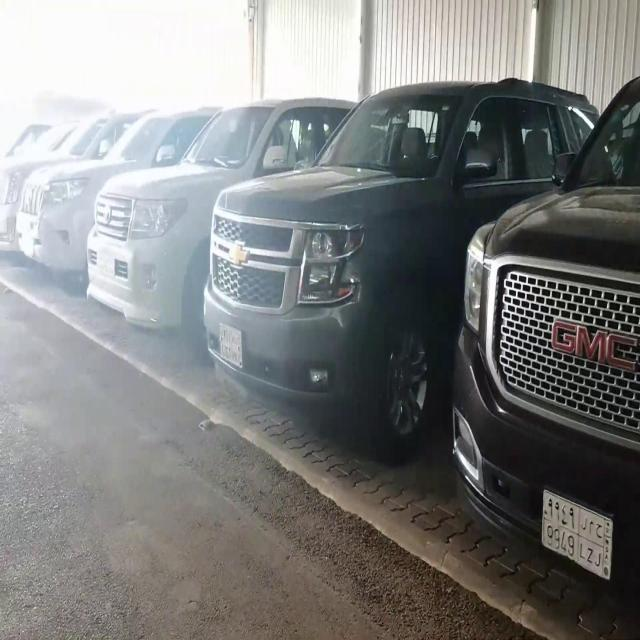license_plate: (535, 478, 614, 582)
